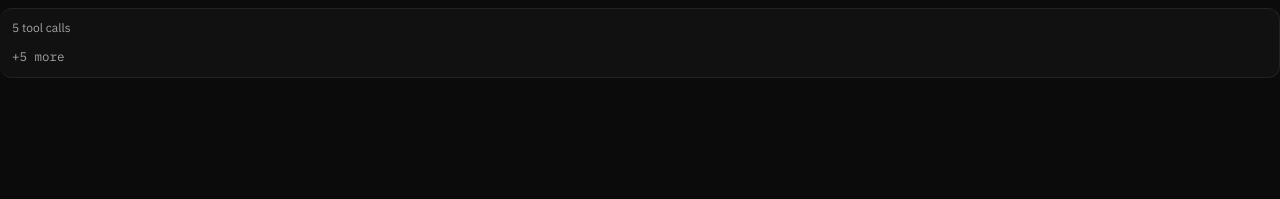
Test: a finished tool block collapses to one line, and three rows need no line at all
Step 1. Click the button with class "tool-more" → click(38, 56), box [12,43,1267,69]
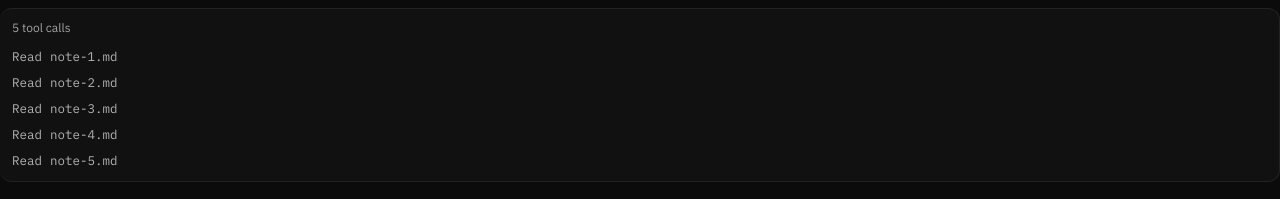
Expected: the number of buttons with class "tool-row" is 5, [12,43,1267,69]; [12,69,1267,95]; [12,95,1267,121]; [12,121,1267,147]; [12,147,1267,173]
